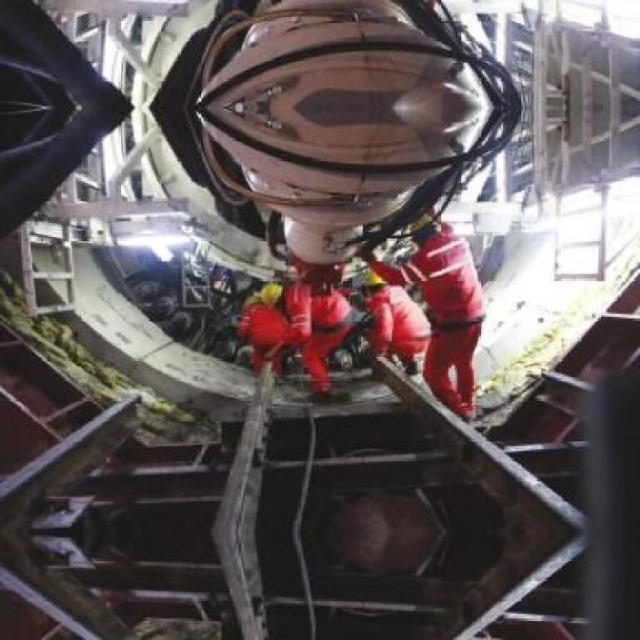helmet: (402, 209, 442, 246), (358, 266, 392, 297), (256, 282, 289, 308)
